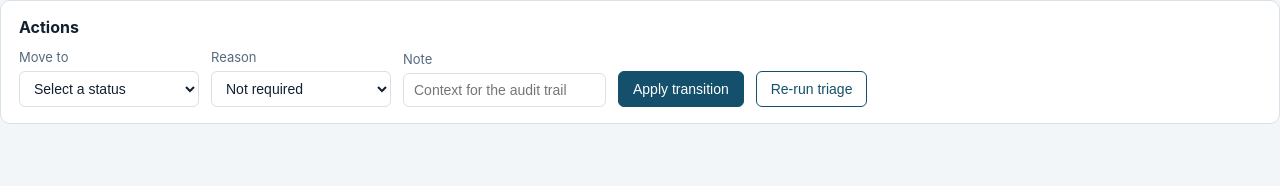
Test: TriageActions (FR-011, FR-014) › shows the structured error returned by the API
The width and height of the screenshot is (1280, 186).
Select "In Assessment" in the dropdown labelled "Move to" at (109, 89), box [19,71,199,107]
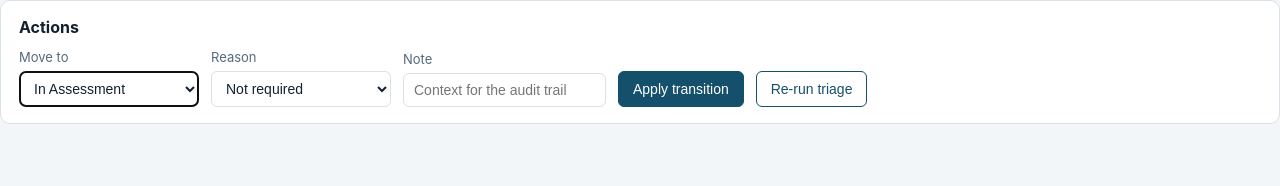
Click the button "Apply transition".
click(681, 89)  # box [618,71,744,107]
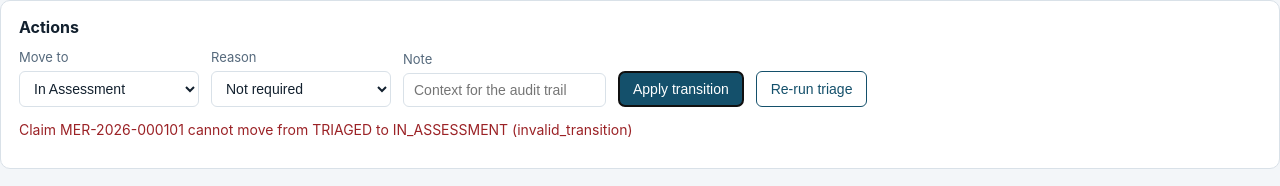
expect the message shows "invalid_transition": met, box [19,121,633,138]
